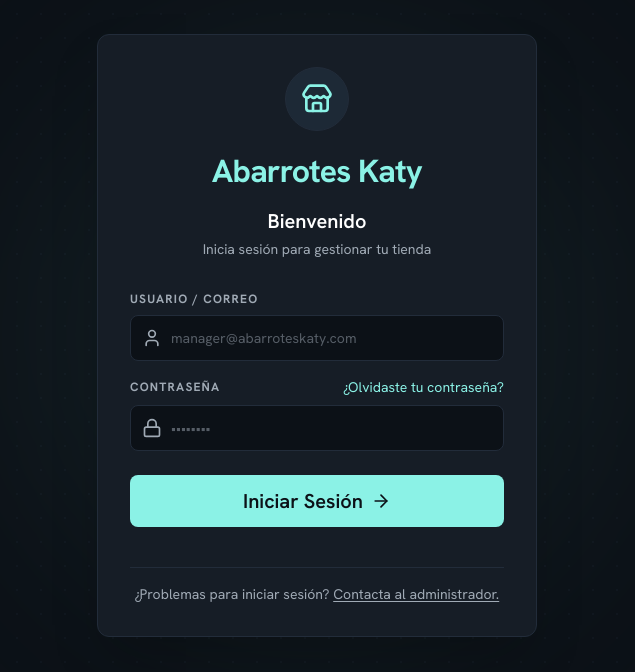
Test: Login › muestra error si login falla
The width and height of the screenshot is (635, 672).
Type "bad@test.com" into the field with placeholder "manager@abarroteskaty.com" at [317, 338], box [130, 314, 504, 360]
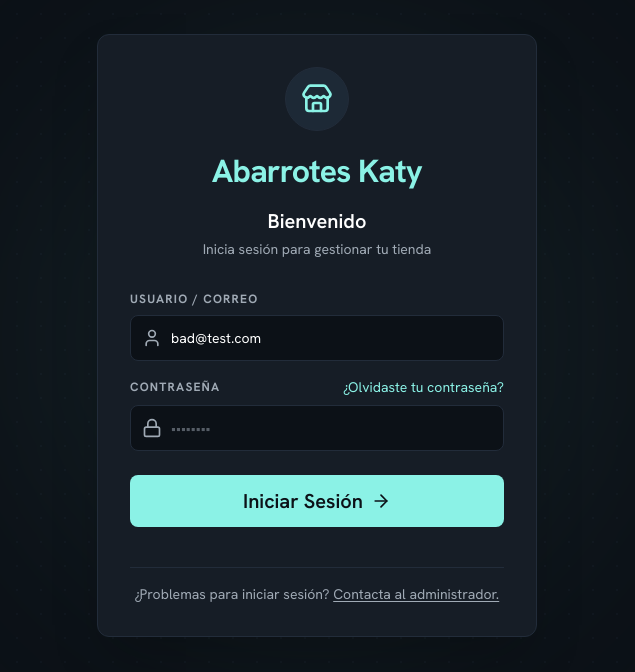
Type "wrong" into the password field with placeholder "••••••••" at [317, 428], box [130, 404, 504, 450]
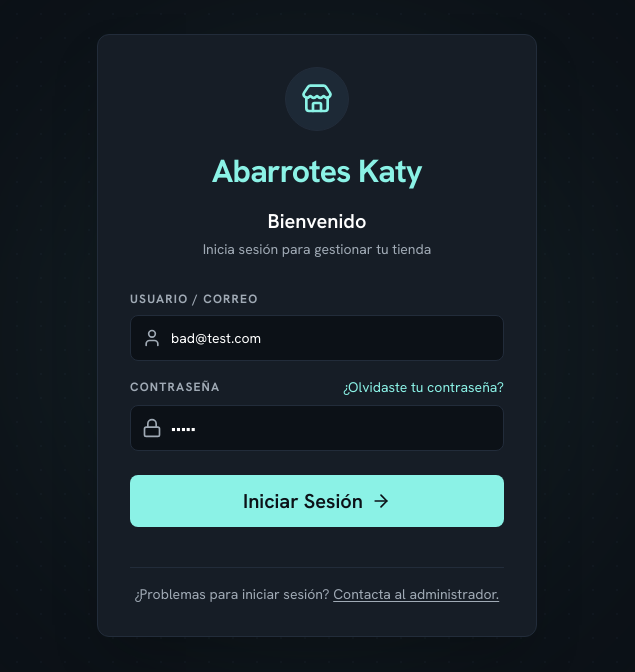
Click the button "Iniciar Sesión" at [317, 500], box [130, 474, 504, 526]
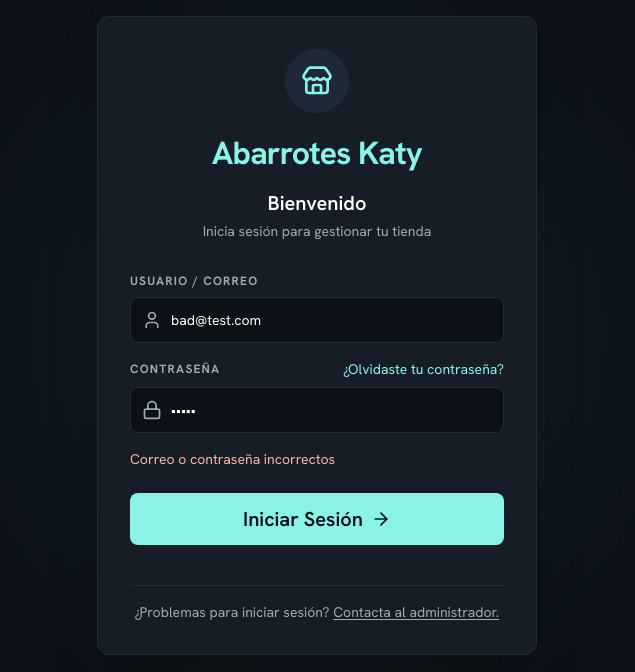
Expected: the text "Correo o contraseña incorrectos" is shown, [130, 450, 335, 468]
